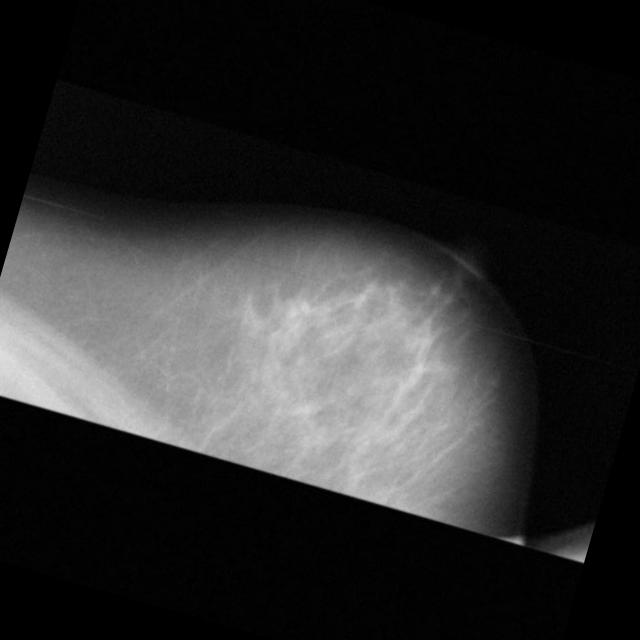CALC: (284, 294, 310, 320)
